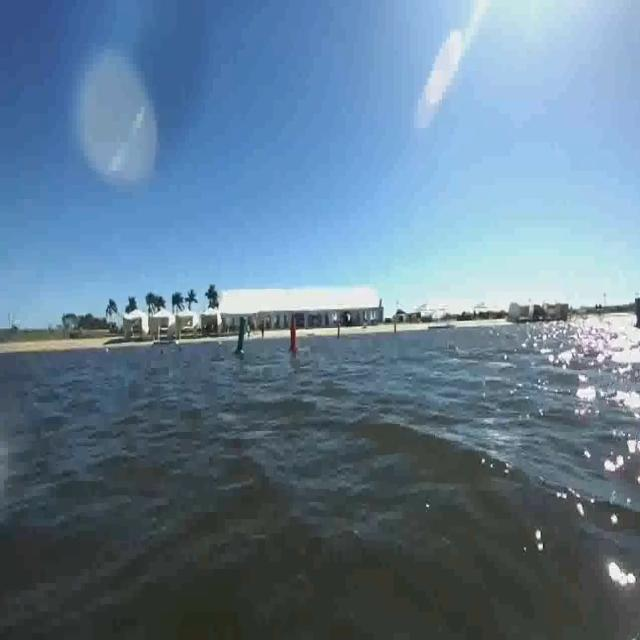green-column-buoy: (234, 317, 250, 358)
red-column-buoy: (288, 319, 300, 355)
